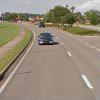Car: (33, 26, 66, 58)
